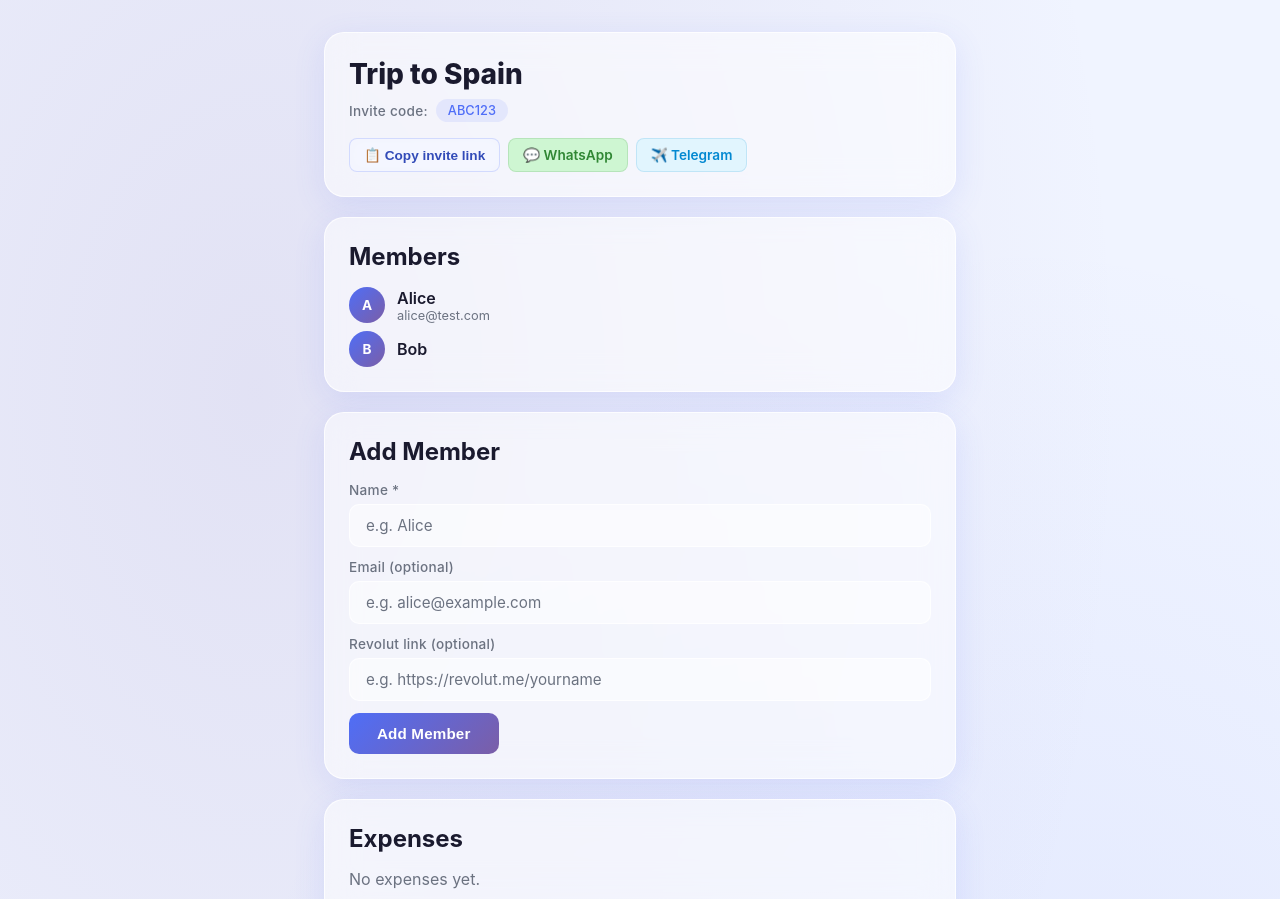
Test: GroupPage — add member › shows an error if adding the member fails
Expected: the heading "Trip to Spain" is shown, [349,57,523,91]
Type "Carol" into the field with placeholder "e.g. Alice".
click(640, 526); type("Carol")  # box [349,504,931,547]
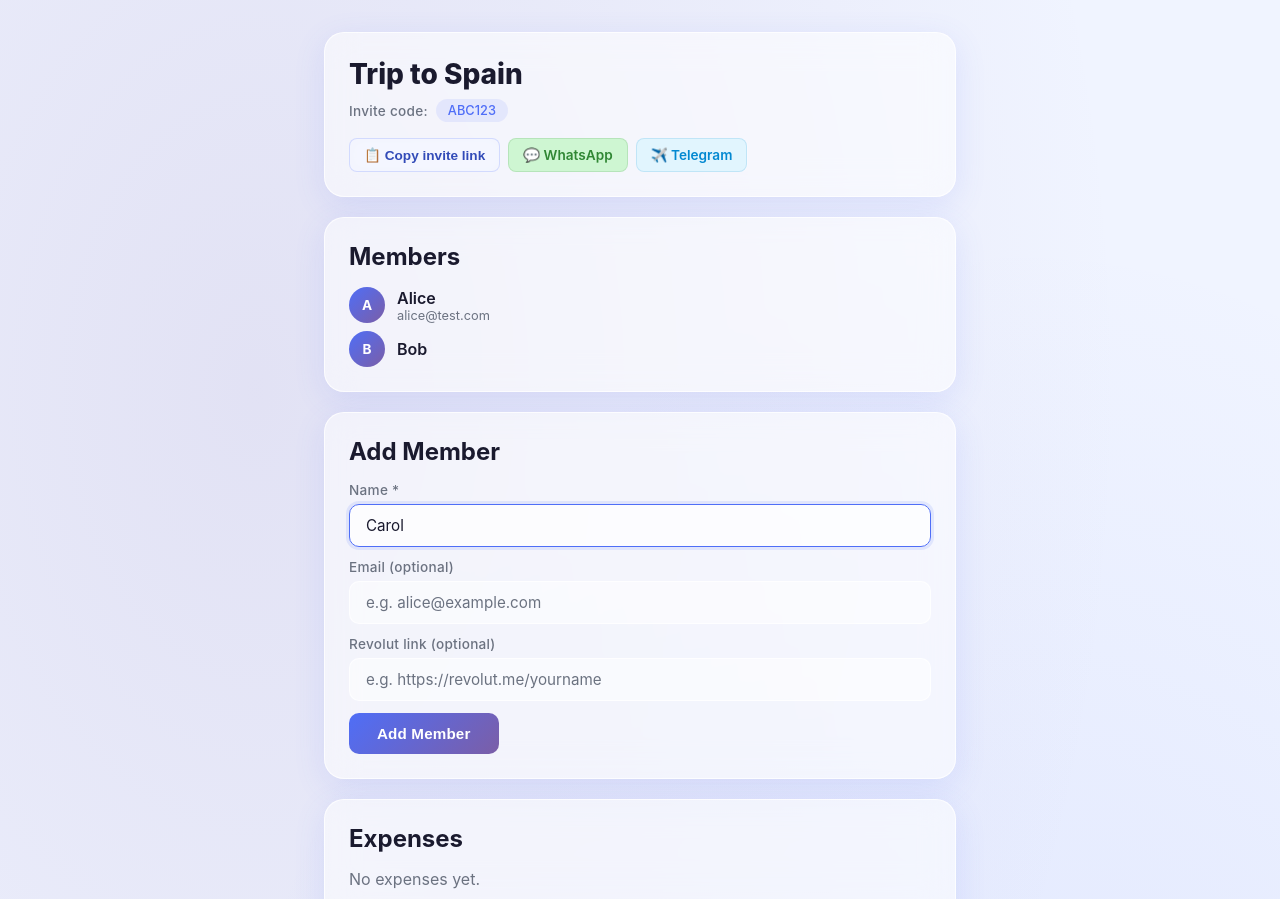
Click the button "Add Member".
click(424, 734)  # box [349,713,498,754]
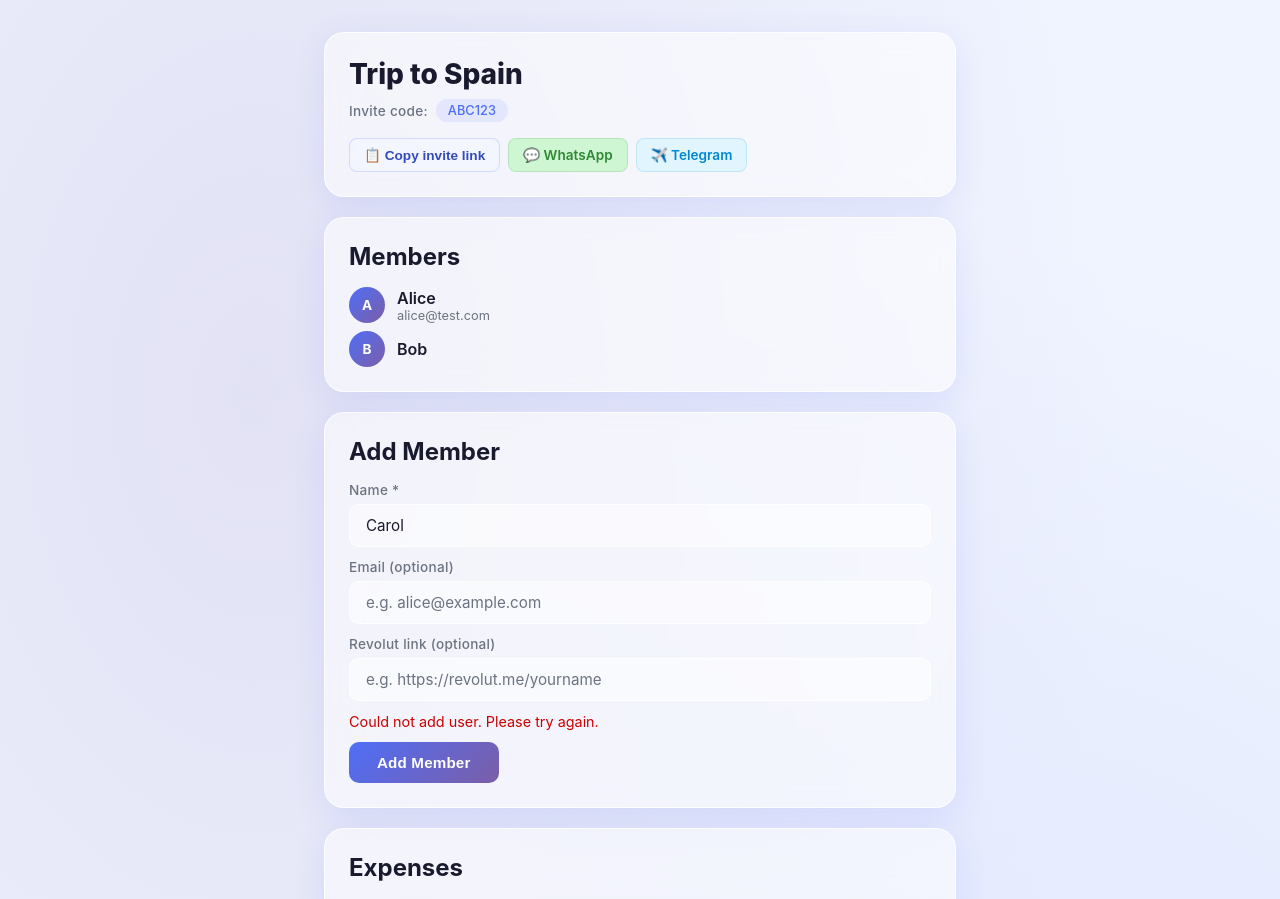
Expected: the text "Could not add user. Please try again." is shown, [349,713,599,730]
